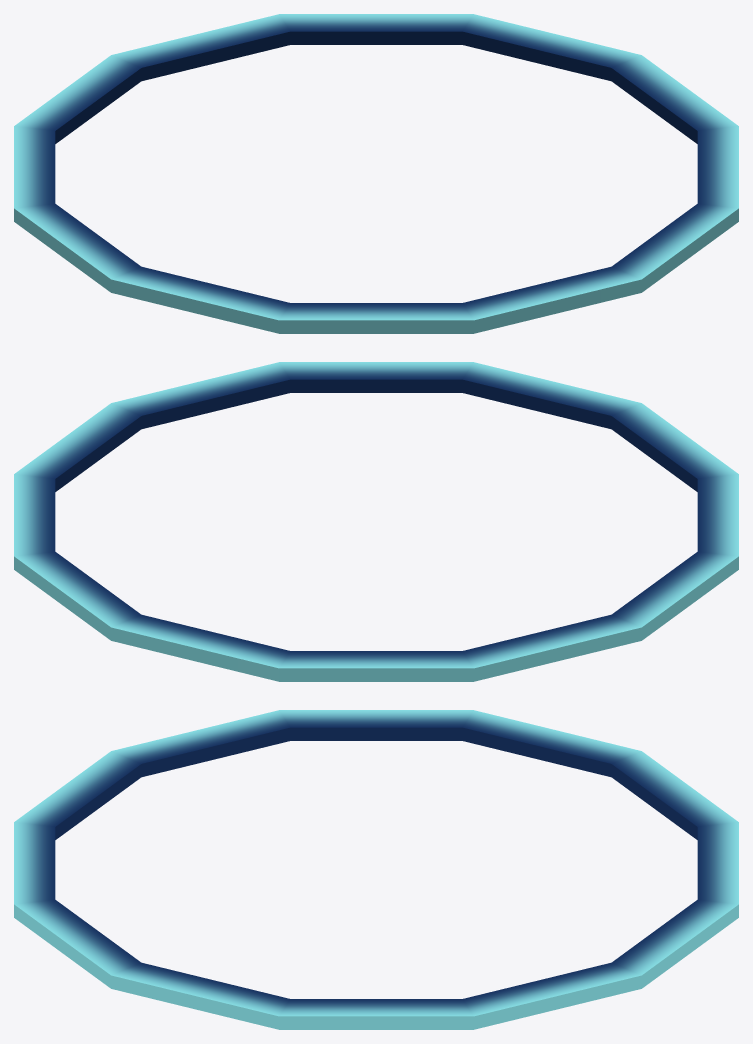
File: stage05_bridge02.FBX
3 views of the same model, one above another, from view 1: azimuth 30°, elevation 25°; view 2: azimuth 150°, elevation 25°; view 3: azimuth 270°, elevation 25° (orthographic).
Visible parts, largest first — view 1: Tube042; view 2: Tube042; view 3: Tube042.
Boxes of the visible parts, x1,y1,x2,y2 form: Tube042: (14, 14, 738, 333); Tube042: (14, 362, 738, 681); Tube042: (14, 710, 738, 1029).
Size of the model in its own units: 1454 by 29.68 by 1454.
1 material, 1 textured.
